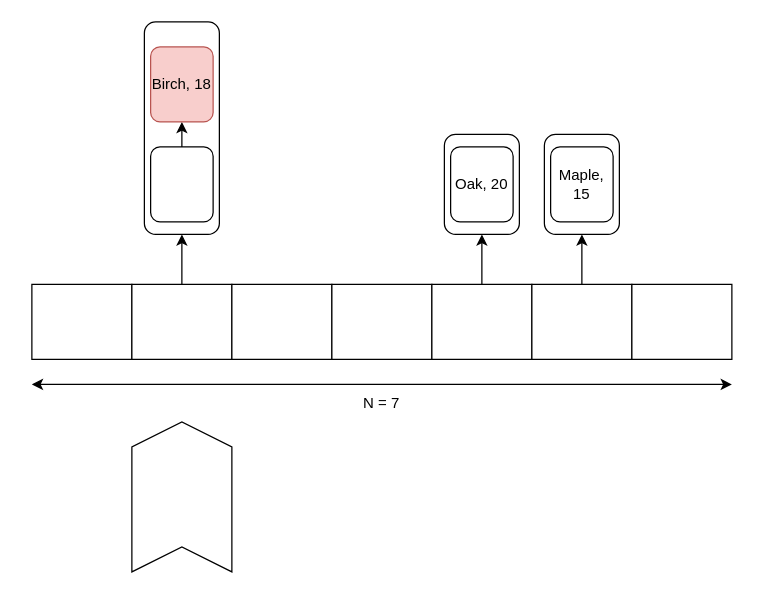
Image size: 765x594. Some labels were removed from this diagram. Each missing label, with the box of its shape:
hash(Birch)%7: (131, 421, 232, 572)
Pine, 25: (149, 146, 213, 222)
